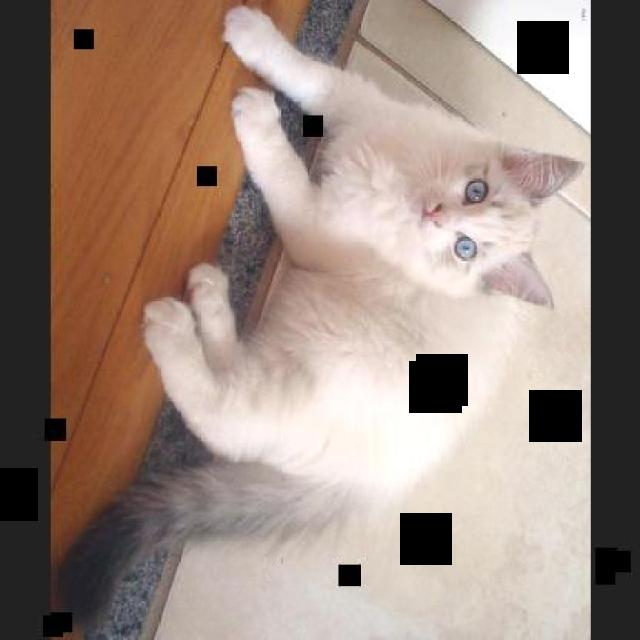unauthorized: (57, 1, 585, 637)
